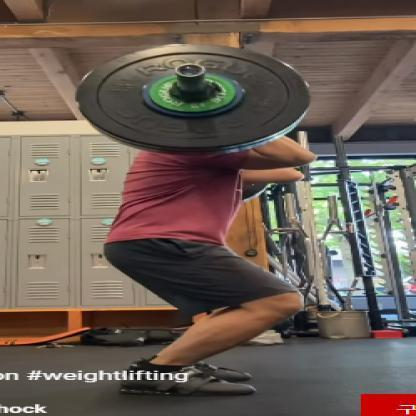barbell: (74, 40, 313, 158)
